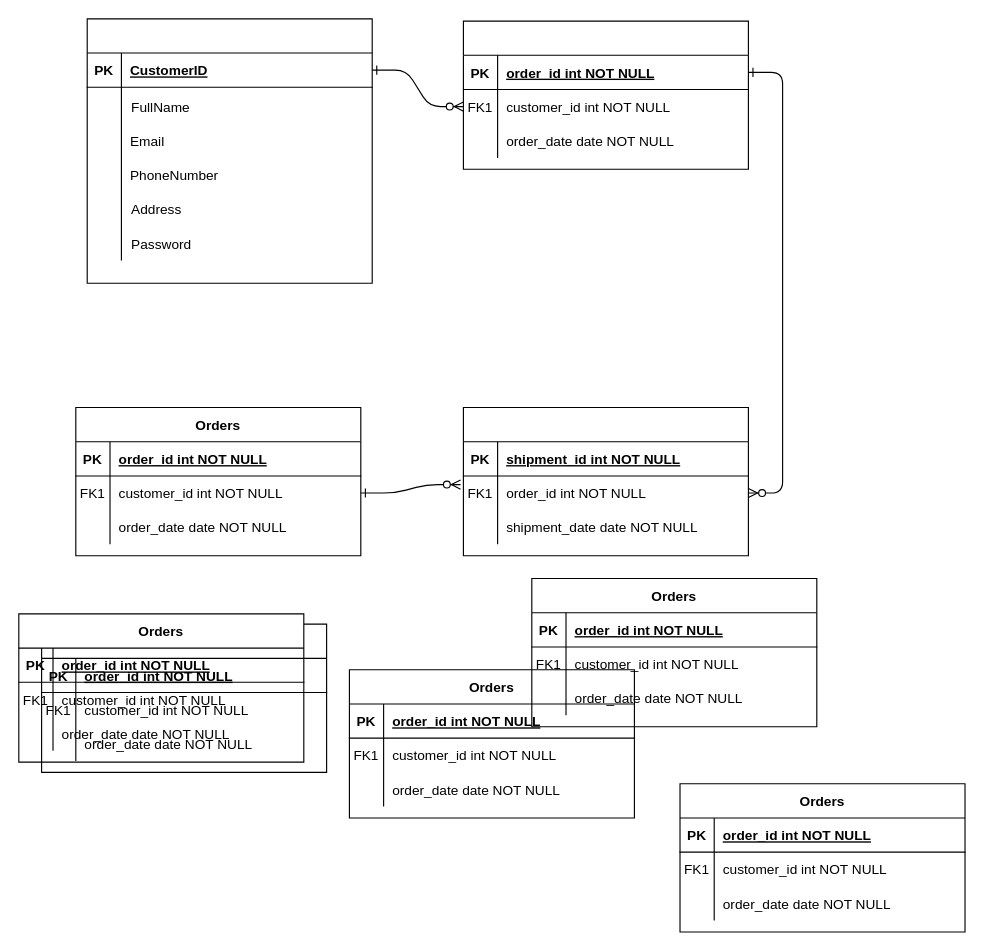
Some shapes in this 984 by 951 pixel diagram are drawn without their labels. Here are the shapes that lost their labels. From the top down, the box of each, then its label:
(462, 20, 748, 169): Product
(86, 18, 372, 283): Customers
(462, 406, 748, 556): Shipments
